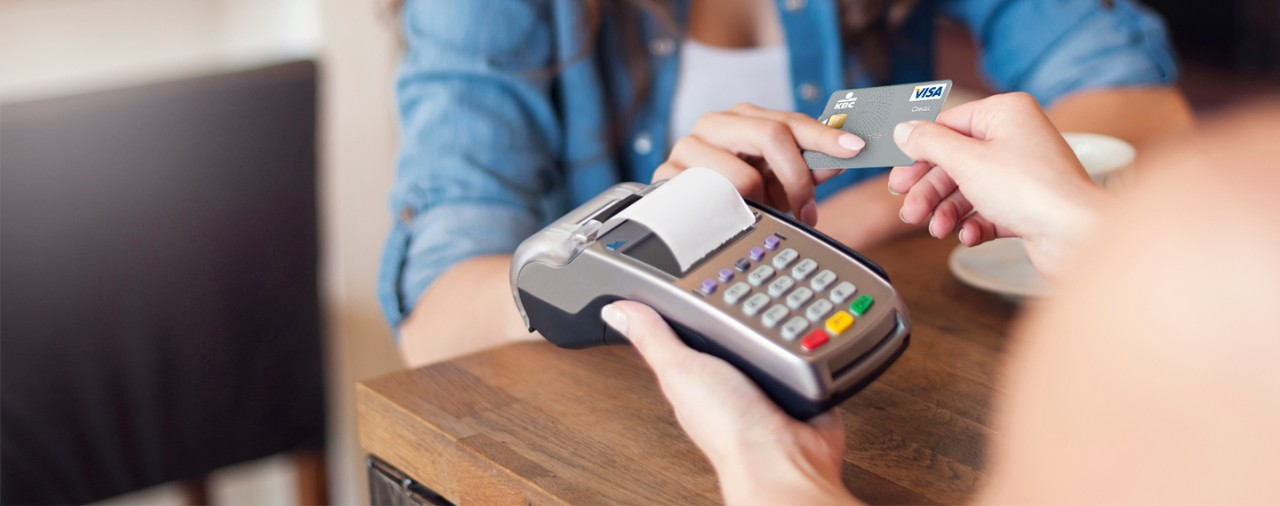tarjeta: (802, 75, 959, 172)
